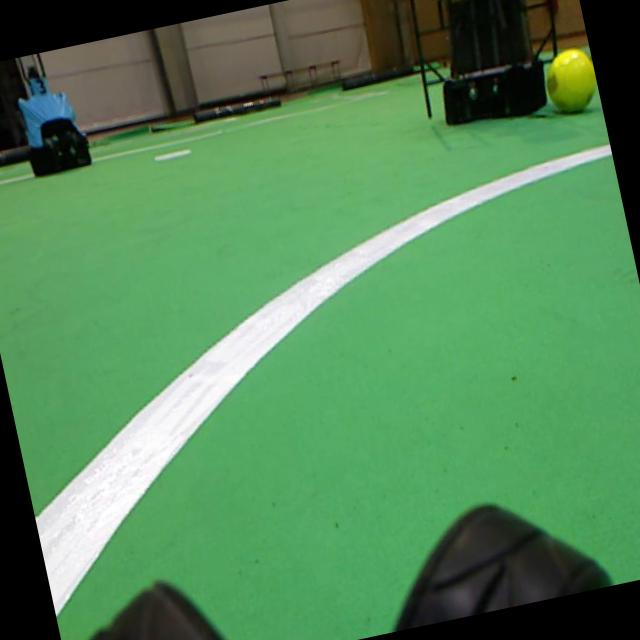ball: (546, 48, 595, 111)
robot: (442, 0, 545, 123)
